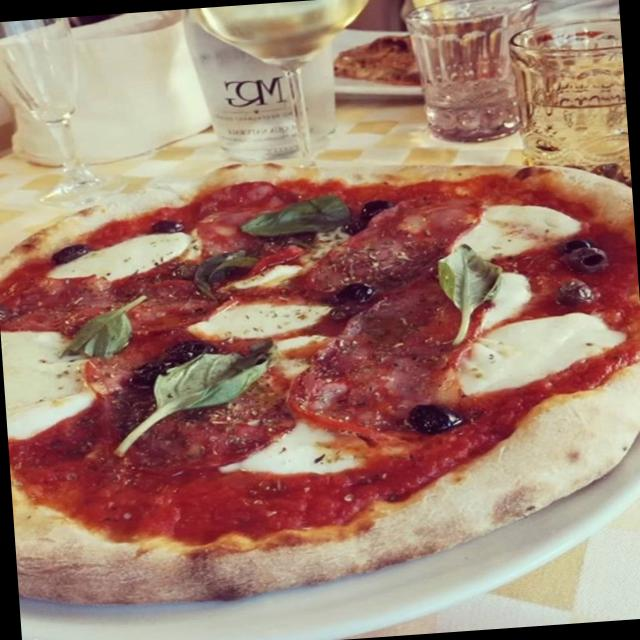black_olives: (135, 337, 210, 392), (554, 235, 614, 278), (409, 397, 464, 437), (343, 194, 401, 230), (46, 238, 96, 271), (551, 278, 598, 312), (332, 279, 379, 308), (136, 216, 184, 238)
pizza: (0, 161, 640, 606)
